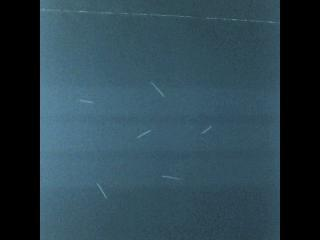scratch: (38, 0, 280, 31), (145, 78, 172, 102), (125, 125, 161, 143), (159, 166, 187, 187), (71, 93, 102, 111), (194, 119, 216, 142), (93, 178, 113, 203)
